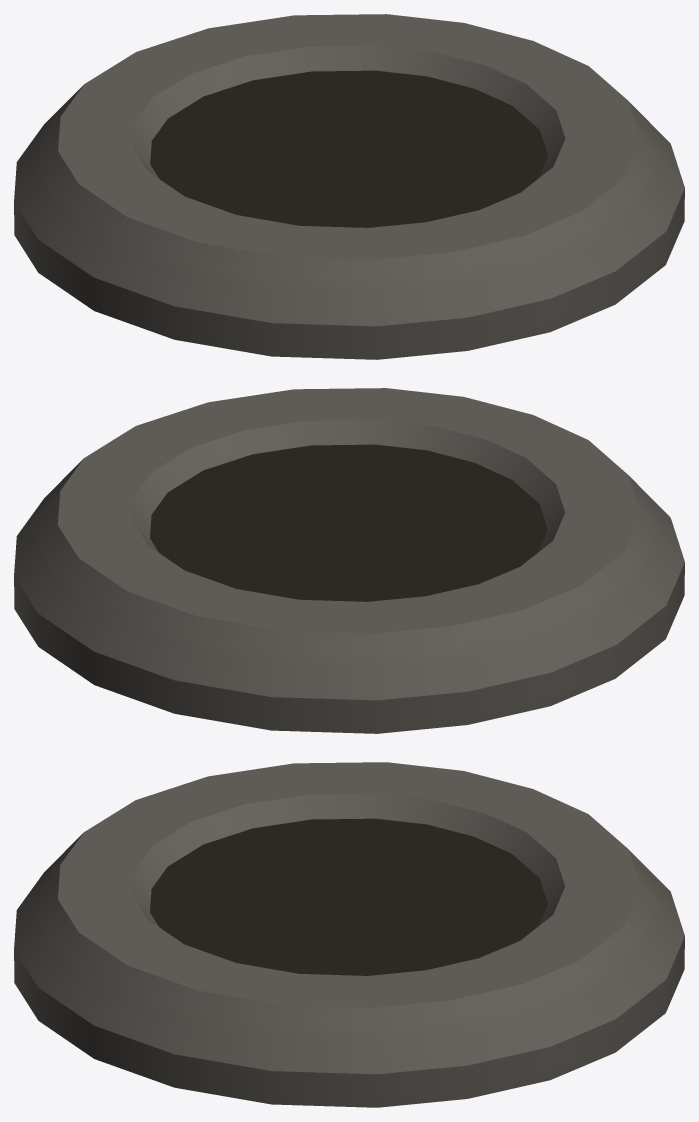
Rendered from Ammo_05.fbx.
3 renders of one model, top to bottom at view 1: azimuth 30°, elevation 25°; view 2: azimuth 150°, elevation 25°; view 3: azimuth 270°, elevation 25°, orthographic.
Visible parts, largest first — view 1: Ammo_05; view 2: Ammo_05; view 3: Ammo_05.
Boxes of the visible parts, box(x1,y1,x2,y2) form: Ammo_05: box(14, 14, 684, 359); Ammo_05: box(14, 388, 684, 733); Ammo_05: box(14, 762, 684, 1107).
Bounding box in the file's own units: 17.65 × 2.38 × 17.7.
